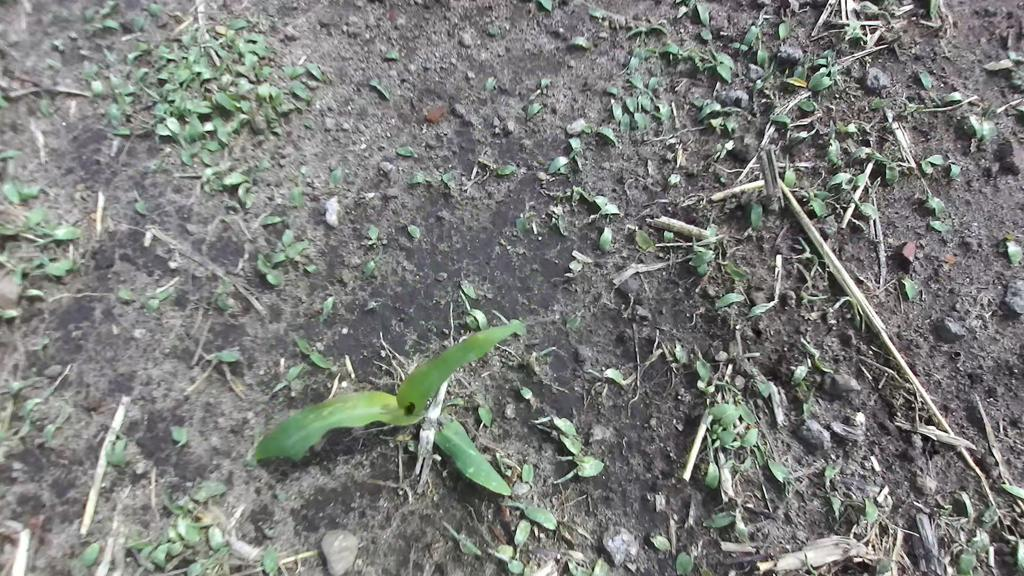BroWeed: (149, 484, 213, 548), (497, 491, 562, 532), (439, 511, 483, 564), (286, 327, 333, 374), (700, 501, 754, 539), (784, 234, 827, 280), (218, 163, 262, 207), (698, 371, 742, 413), (455, 286, 492, 333), (247, 251, 288, 292), (528, 409, 583, 439), (147, 533, 188, 572), (831, 293, 872, 331), (269, 357, 307, 398), (10, 393, 41, 443), (550, 458, 607, 485), (972, 501, 1001, 554), (741, 4, 774, 49), (699, 45, 737, 84), (38, 402, 73, 444), (504, 516, 536, 561), (724, 424, 764, 459), (161, 71, 202, 105), (190, 474, 228, 510), (795, 49, 830, 88), (493, 304, 532, 339), (268, 237, 312, 268), (122, 535, 158, 572), (583, 117, 623, 150), (809, 61, 845, 97), (176, 44, 211, 81), (695, 100, 751, 123), (793, 258, 823, 300), (74, 60, 106, 99), (816, 452, 847, 492), (878, 152, 912, 188), (627, 225, 664, 258), (802, 341, 834, 379), (147, 104, 185, 135), (761, 458, 800, 488), (556, 427, 590, 461), (145, 115, 180, 147), (798, 185, 830, 220), (626, 70, 662, 101), (108, 90, 145, 120), (104, 72, 142, 101), (915, 187, 949, 219), (195, 160, 225, 196), (0, 158, 22, 207), (75, 537, 106, 571), (34, 253, 69, 283), (206, 37, 241, 67), (714, 402, 744, 437), (200, 516, 228, 553), (746, 65, 774, 102), (218, 13, 249, 46), (803, 59, 836, 90), (700, 398, 733, 429), (546, 200, 574, 236), (823, 117, 843, 167), (224, 58, 261, 85), (10, 253, 42, 284), (778, 160, 809, 192), (174, 22, 207, 52), (586, 362, 627, 386), (196, 60, 231, 88), (266, 83, 296, 115), (472, 392, 497, 430), (165, 60, 195, 91), (165, 140, 198, 168), (34, 222, 82, 241), (510, 376, 540, 406), (183, 107, 207, 144), (732, 394, 758, 428), (622, 22, 671, 40), (19, 200, 48, 230), (286, 78, 317, 106), (678, 44, 709, 72), (720, 258, 752, 285), (705, 432, 720, 489), (911, 59, 936, 93), (211, 87, 240, 116), (742, 297, 780, 319), (780, 66, 812, 92), (686, 246, 719, 271), (788, 121, 822, 145), (366, 74, 395, 102), (209, 110, 232, 145), (248, 106, 269, 144), (148, 38, 176, 66), (397, 213, 425, 241), (254, 97, 281, 126), (818, 36, 847, 63), (648, 98, 677, 125), (567, 557, 608, 576), (843, 142, 874, 167), (358, 252, 385, 280), (645, 530, 675, 555), (822, 168, 856, 190), (183, 137, 222, 156), (958, 539, 978, 576), (207, 345, 242, 366), (227, 88, 254, 115), (146, 132, 174, 158), (712, 289, 745, 311), (631, 31, 653, 64), (33, 91, 58, 120), (695, 2, 713, 42), (722, 455, 754, 477), (111, 431, 130, 468), (568, 135, 587, 172), (641, 42, 682, 59), (840, 171, 870, 194), (695, 346, 711, 389), (290, 61, 324, 81), (316, 292, 336, 326), (231, 70, 257, 96), (227, 109, 251, 137), (155, 90, 178, 119), (236, 40, 258, 70), (671, 549, 695, 576), (685, 89, 713, 112), (145, 285, 177, 305), (861, 493, 881, 525), (966, 110, 986, 142), (151, 78, 180, 100), (596, 225, 617, 255), (182, 97, 215, 116), (843, 17, 868, 42), (16, 181, 43, 204), (705, 50, 736, 70), (790, 358, 808, 392), (923, 214, 952, 235), (241, 41, 273, 60), (561, 256, 585, 281), (633, 110, 650, 145), (720, 111, 742, 138), (588, 202, 621, 220), (578, 189, 609, 208), (899, 273, 920, 301), (240, 29, 269, 49), (257, 210, 289, 228), (854, 198, 880, 220), (442, 170, 459, 203), (117, 283, 140, 307), (585, 1, 609, 24), (458, 277, 479, 303), (868, 147, 895, 167), (980, 118, 999, 146), (126, 63, 149, 86), (80, 1, 102, 25), (90, 16, 123, 32), (166, 425, 188, 449), (930, 90, 963, 106), (829, 493, 847, 522), (375, 44, 402, 63), (196, 147, 219, 169), (164, 4, 188, 25), (867, 93, 895, 111), (326, 160, 344, 188), (634, 92, 655, 116), (792, 51, 809, 80), (252, 155, 274, 177), (251, 62, 274, 83), (215, 71, 236, 94), (772, 108, 795, 129), (122, 48, 146, 68), (503, 556, 527, 576), (778, 7, 792, 41), (111, 125, 147, 138), (217, 146, 235, 172), (287, 160, 305, 186), (263, 544, 278, 575), (983, 57, 1016, 71), (717, 138, 737, 161), (807, 305, 834, 322), (0, 221, 24, 240), (256, 80, 274, 105), (712, 429, 737, 447), (867, 172, 884, 198), (290, 185, 307, 211), (148, 101, 169, 122), (3, 376, 24, 397), (32, 331, 52, 353), (193, 45, 213, 67), (900, 100, 922, 120), (562, 310, 584, 330), (620, 94, 642, 114), (800, 291, 829, 306), (78, 45, 105, 61), (751, 200, 763, 236), (502, 395, 519, 420), (206, 173, 227, 193), (162, 525, 182, 546), (39, 55, 65, 71), (802, 386, 815, 418), (496, 160, 519, 178), (706, 115, 724, 138), (645, 70, 662, 94), (514, 207, 529, 234), (693, 557, 714, 576), (133, 198, 151, 220), (214, 291, 232, 313), (144, 55, 167, 72), (565, 34, 591, 49), (394, 143, 420, 158), (164, 50, 188, 66), (602, 84, 626, 100), (557, 455, 595, 465), (917, 157, 936, 177), (21, 286, 48, 300), (103, 439, 117, 466), (107, 103, 122, 128), (186, 559, 208, 576), (463, 311, 480, 333), (626, 54, 642, 77), (173, 93, 187, 119), (50, 35, 69, 54), (756, 380, 774, 400), (301, 259, 321, 277), (174, 130, 191, 151), (268, 117, 285, 138), (526, 350, 540, 375), (752, 444, 767, 467), (170, 41, 188, 60), (664, 171, 682, 190), (756, 37, 766, 71), (675, 339, 689, 363), (86, 57, 104, 75), (290, 94, 309, 111), (926, 152, 949, 166), (528, 86, 548, 102), (214, 276, 230, 296), (475, 153, 496, 168), (611, 101, 624, 125), (366, 223, 380, 245), (710, 140, 724, 162), (211, 20, 229, 37), (200, 117, 217, 135), (694, 261, 712, 278), (56, 255, 75, 271), (160, 59, 179, 75), (242, 190, 257, 210), (679, 193, 699, 208), (1010, 71, 1024, 92), (836, 121, 858, 134), (103, 45, 118, 64), (876, 556, 891, 575), (947, 162, 962, 181), (823, 49, 838, 68), (496, 544, 516, 558), (520, 463, 534, 483), (711, 77, 724, 98), (130, 16, 146, 33), (0, 149, 24, 160), (571, 183, 583, 205), (620, 113, 631, 137), (145, 298, 160, 315), (208, 94, 223, 111), (527, 103, 542, 120), (443, 396, 466, 407), (708, 226, 719, 249), (155, 69, 174, 82), (146, 2, 162, 17), (271, 98, 285, 115), (524, 559, 538, 576), (797, 99, 814, 113), (232, 36, 245, 54), (729, 40, 750, 51), (813, 190, 832, 202), (261, 127, 276, 142), (406, 175, 431, 184), (0, 307, 20, 318), (394, 431, 414, 442), (881, 0, 903, 10), (282, 228, 294, 246), (187, 75, 201, 90), (405, 439, 419, 454), (710, 421, 721, 440), (217, 543, 231, 557), (487, 21, 500, 36), (664, 135, 679, 148), (294, 254, 311, 265), (539, 77, 552, 91), (539, 0, 554, 12), (150, 157, 162, 171), (303, 118, 317, 130), (662, 229, 674, 243), (485, 76, 496, 91), (601, 14, 611, 30), (629, 115, 639, 131), (138, 41, 155, 50), (230, 97, 243, 108), (0, 90, 8, 107), (727, 389, 736, 403), (33, 108, 44, 119), (502, 19, 512, 31), (594, 199, 606, 209), (226, 126, 233, 142), (284, 64, 292, 78), (123, 95, 135, 104), (0, 250, 7, 262), (718, 176, 727, 184), (0, 431, 5, 444), (757, 0, 773, 4), (301, 166, 306, 174), (674, 0, 684, 3)
Maize: (248, 291, 549, 497)
